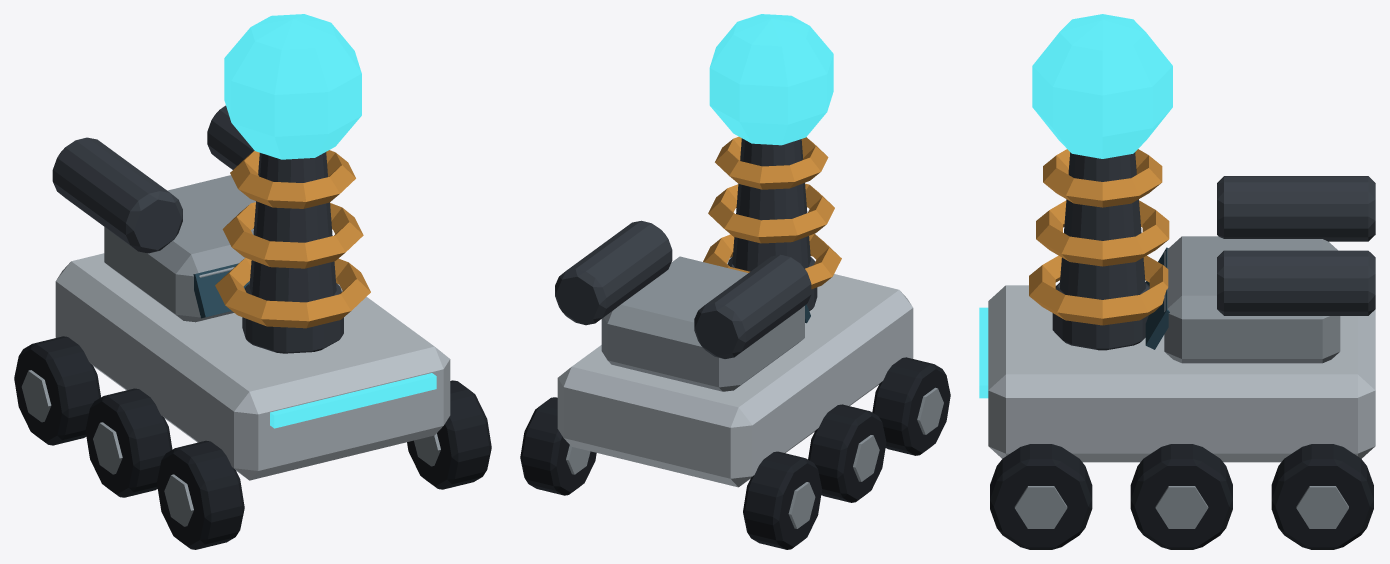
The model's file is exo-arc.glb.
3 views of the same model, side by side, from view 1: azimuth 30°, elevation 25°; view 2: azimuth 150°, elevation 25°; view 3: azimuth 270°, elevation 25° (orthographic). The views are drawn at different scales.
Visible parts, largest first — view 1: body; view 2: body; view 3: body.
Part boxes in pixels (x1,y1,x2,y2): body: (14, 14, 491, 549); body: (520, 14, 950, 549); body: (979, 14, 1375, 549).
Size of the model in its own units: 1.9 by 2.91 by 2.25.
